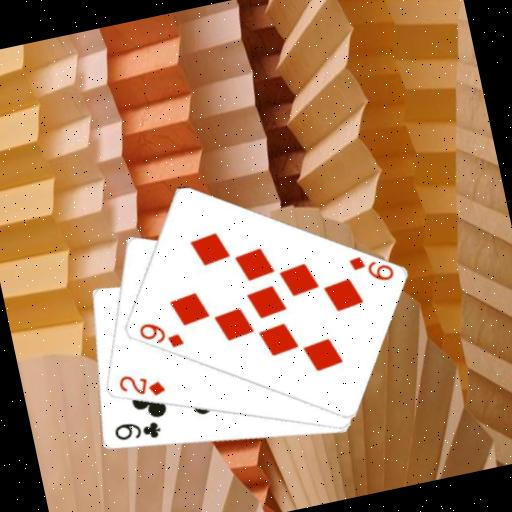2D: (113, 365, 167, 405)
9C: (109, 413, 164, 449)
9D: (134, 312, 186, 356), (344, 246, 396, 290)
